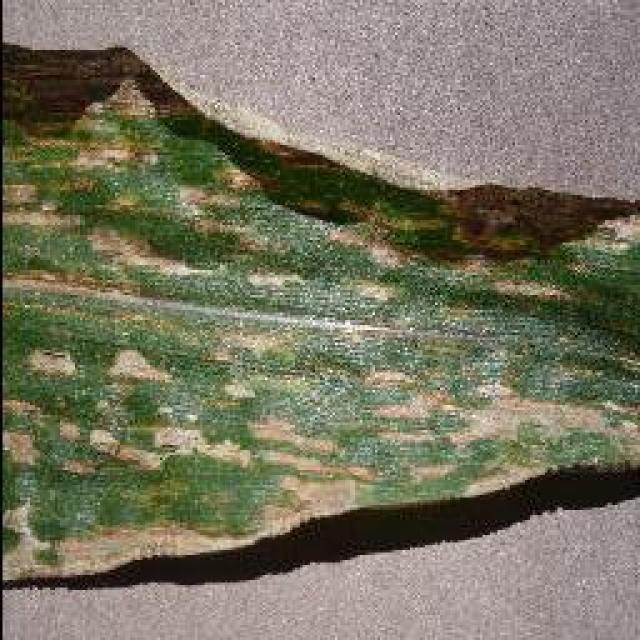Corn_Grey_Leaf_Spot: (0, 172, 495, 522)
